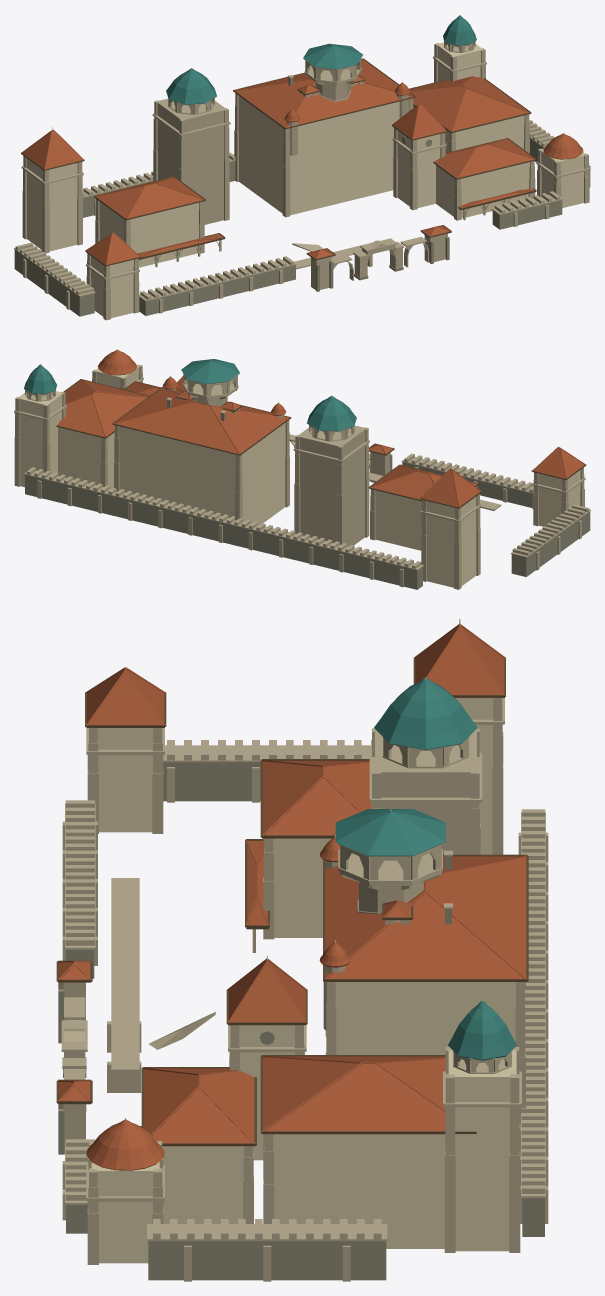
The model's file is citadel-skyline.glb.
3 views of the same model, one above another, from view 1: azimuth 30°, elevation 25°; view 2: azimuth 150°, elevation 25°; view 3: azimuth 270°, elevation 25° (orthographic). The views are drawn at different scales.
Parts seen in each view (by area): view 1: citadel.skyline.material.skyline_lime, citadel.skyline.material.skyline_stone, citadel.skyline.material.skyline_clay, citadel.skyline.material.skyline_shadow, citadel.skyline.material.skyline_teal, citadel.skyline.material.skyline_timber; view 2: citadel.skyline.material.skyline_stone, citadel.skyline.material.skyline_lime, citadel.skyline.material.skyline_clay, citadel.skyline.material.skyline_shadow, citadel.skyline.material.skyline_teal, citadel.skyline.material.skyline_timber; view 3: citadel.skyline.material.skyline_stone, citadel.skyline.material.skyline_clay, citadel.skyline.material.skyline_lime, citadel.skyline.material.skyline_shadow, citadel.skyline.material.skyline_teal, citadel.skyline.material.skyline_timber.
Boxes of the visible parts, box(x1,y1,x2,y2) form: citadel.skyline.material.skyline_lime: box(26, 42, 586, 318); citadel.skyline.material.skyline_stone: box(14, 15, 590, 320); citadel.skyline.material.skyline_clay: box(21, 58, 583, 265); citadel.skyline.material.skyline_shadow: box(14, 44, 590, 316); citadel.skyline.material.skyline_teal: box(166, 15, 476, 104); citadel.skyline.material.skyline_timber: box(21, 58, 536, 266); citadel.skyline.material.skyline_stone: box(14, 349, 590, 589); citadel.skyline.material.skyline_lime: box(18, 364, 580, 587); citadel.skyline.material.skyline_clay: box(57, 350, 585, 507); citadel.skyline.material.skyline_shadow: box(25, 394, 590, 589); citadel.skyline.material.skyline_teal: box(24, 359, 356, 431); citadel.skyline.material.skyline_timber: box(56, 379, 586, 508); citadel.skyline.material.skyline_stone: box(61, 618, 548, 1281); citadel.skyline.material.skyline_clay: box(57, 624, 527, 1170); citadel.skyline.material.skyline_lime: box(91, 698, 516, 1263); citadel.skyline.material.skyline_shadow: box(58, 737, 544, 1280); citadel.skyline.material.skyline_teal: box(335, 678, 516, 1060); citadel.skyline.material.skyline_timber: box(56, 657, 528, 1146).
Size of the model in its own units: 207 by 62.4 by 86.76.
